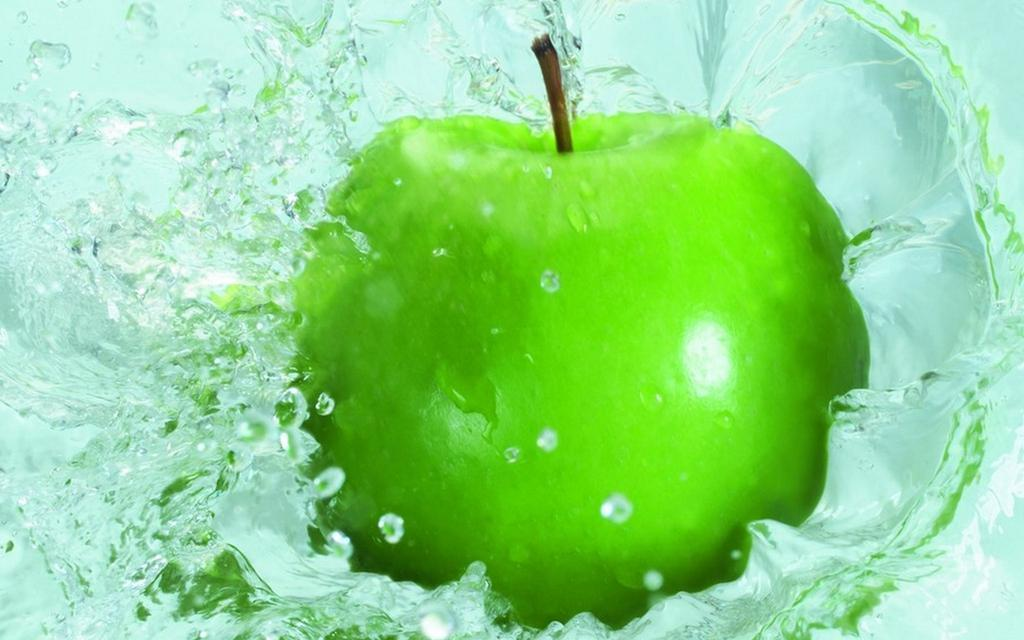apple: (228, 86, 856, 611)
